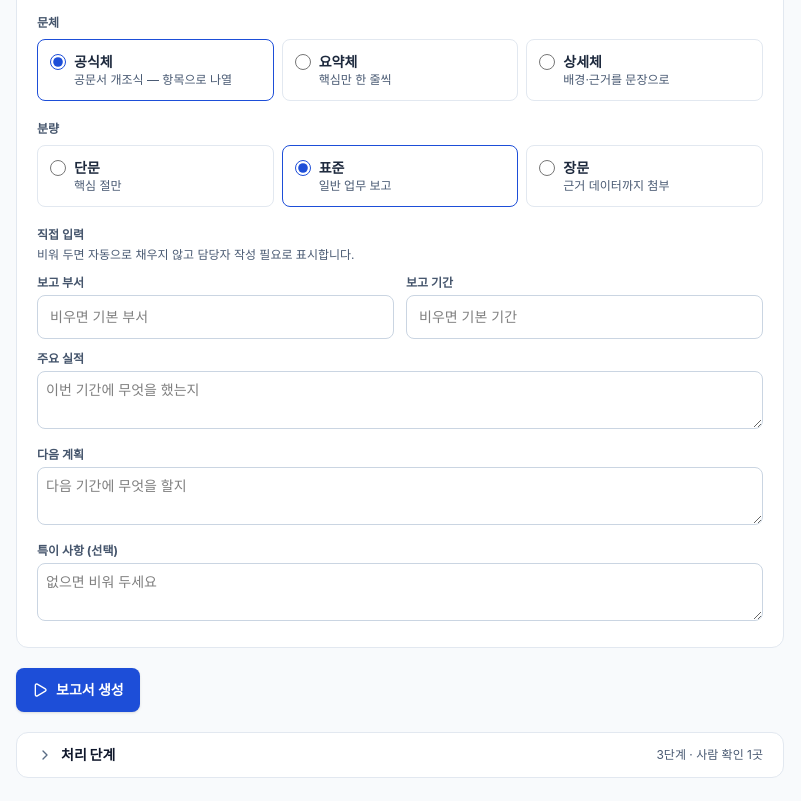
Test: ReportPage › 보고 유형을 바꾸면 문서번호와 절이 달라진다
The image size is (801, 801).
(page scrolled)
Click the button "보고서 생성" at (78, 690), box [16,668,140,712]
(page scrolled)
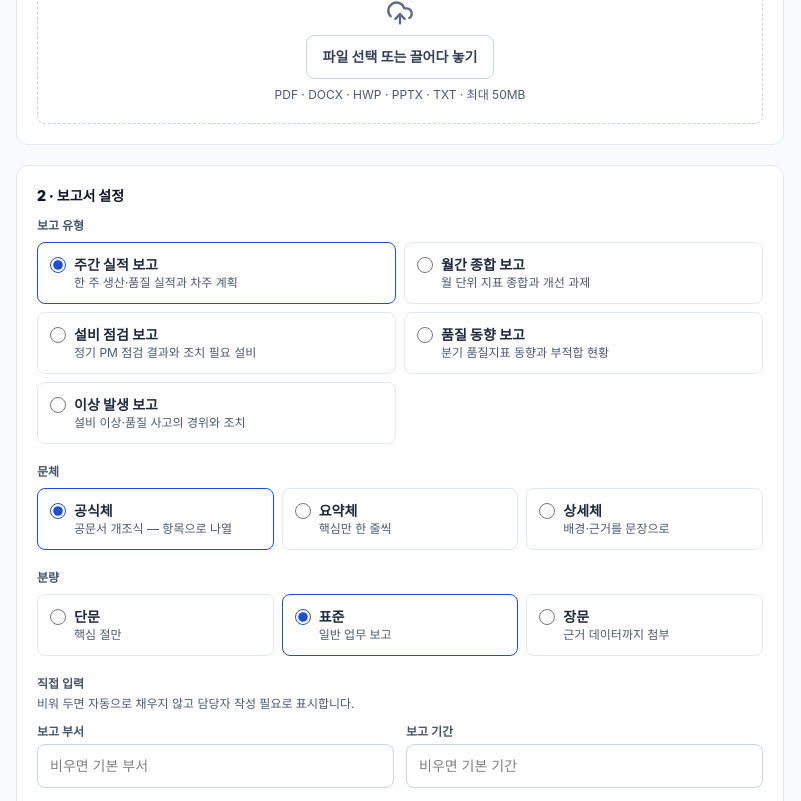
Click the radio button labelled "이상 발생 보고 설비 이상·품질 사고의 경위와 조치" at (58, 405), box [50,397,66,413]
(page scrolled)
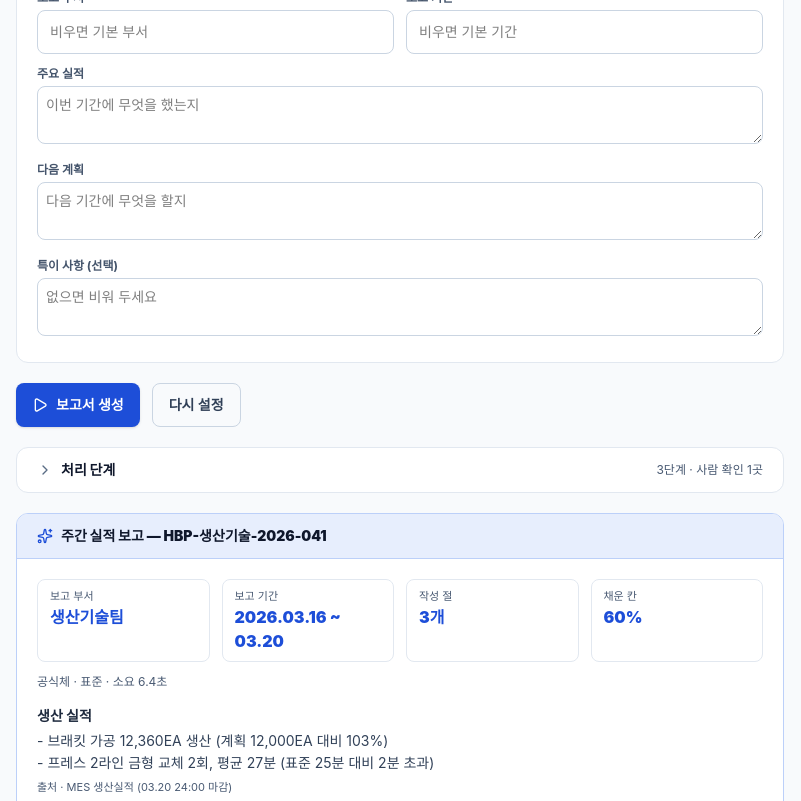
Click the button "보고서 생성" at (78, 405), box [16,383,140,427]
(page scrolled)
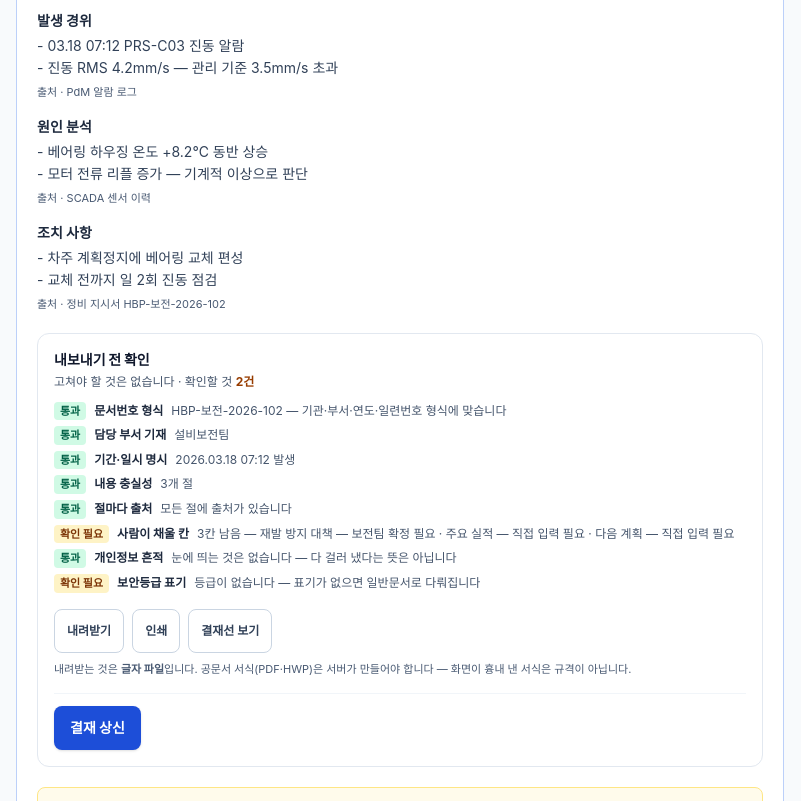
Expected: the element "HBP-보전-2026-102" shows "발생 경위", [37,12,92,28]
